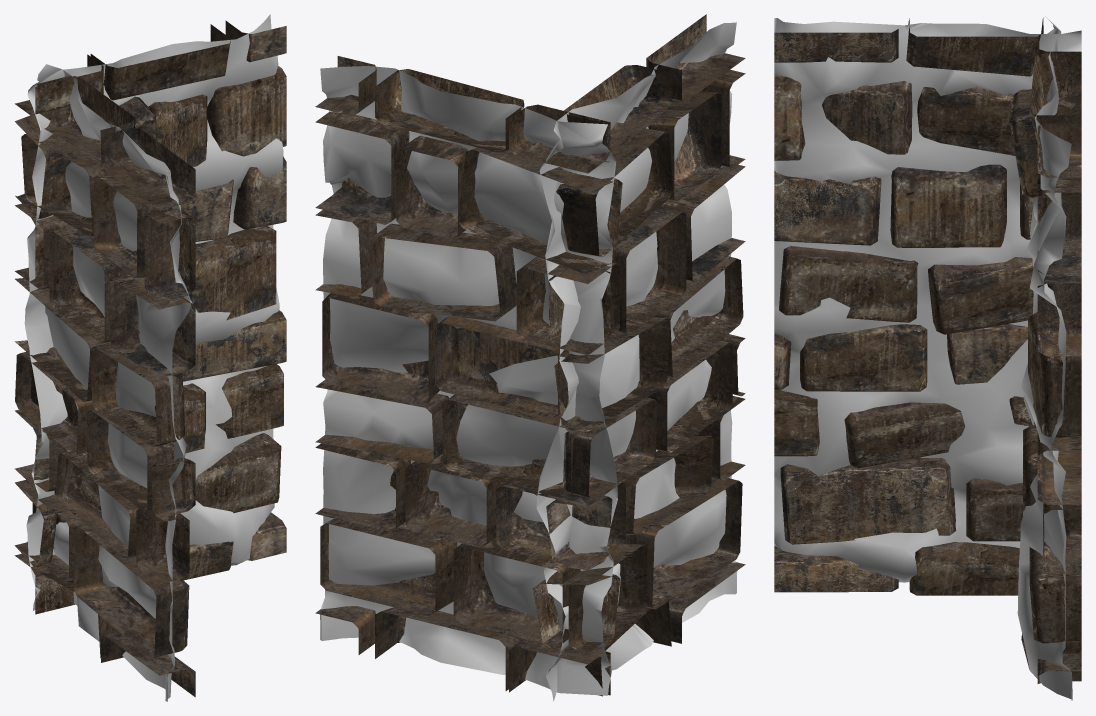
File: taureg_concave_small.dae
3 renders of one model, left to right at view 1: azimuth 30°, elevation 25°; view 2: azimuth 150°, elevation 25°; view 3: azimuth 270°, elevation 25°, orthographic. The views are drawn at different scales.
Parts seen in each view (by area): view 1: LO__2___2___3_, Mesh__2___2_; view 2: LO__2___2___3_, Mesh__2___2_; view 3: LO__2___2___3_, Mesh__2___2_.
Boxes of the visible parts, x1=… form: LO__2___2___3_: x1=14, y1=20, x2=286, y2=697; Mesh__2___2_: x1=24, y1=14, x2=283, y2=701; LO__2___2___3_: x1=315, y1=14, x2=745, y2=696; Mesh__2___2_: x1=320, y1=22, x2=737, y2=701; LO__2___2___3_: x1=774, y1=17, x2=1081, y2=683; Mesh__2___2_: x1=774, y1=16, x2=1081, y2=700.
Size of the model in its own units: 2 by 4.02 by 2.
